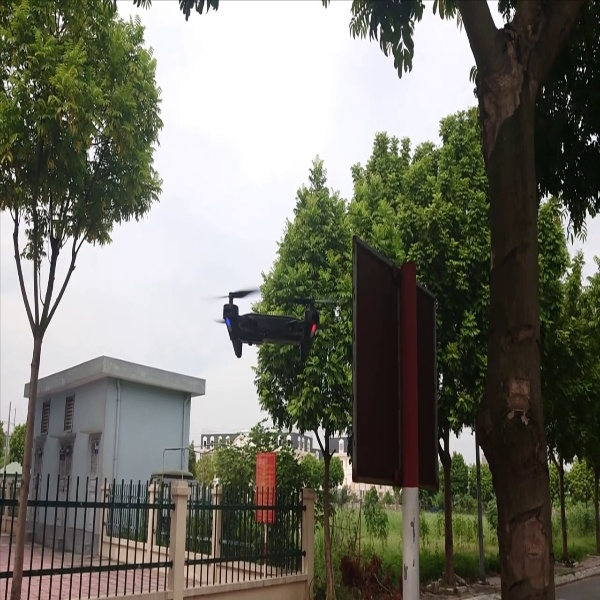drone: (207, 272, 343, 367)
